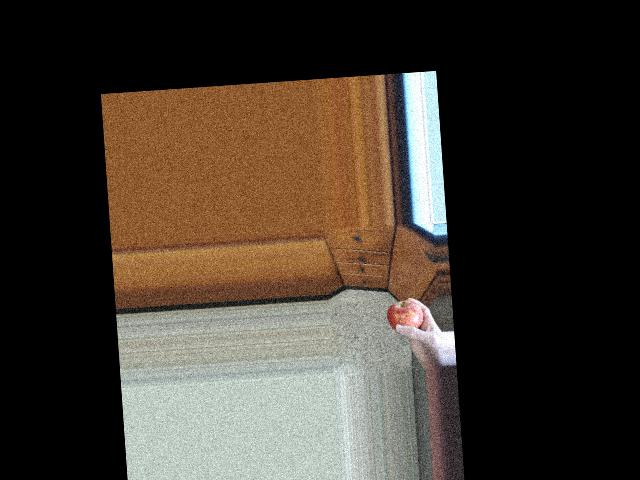apple: (385, 296, 429, 340)
